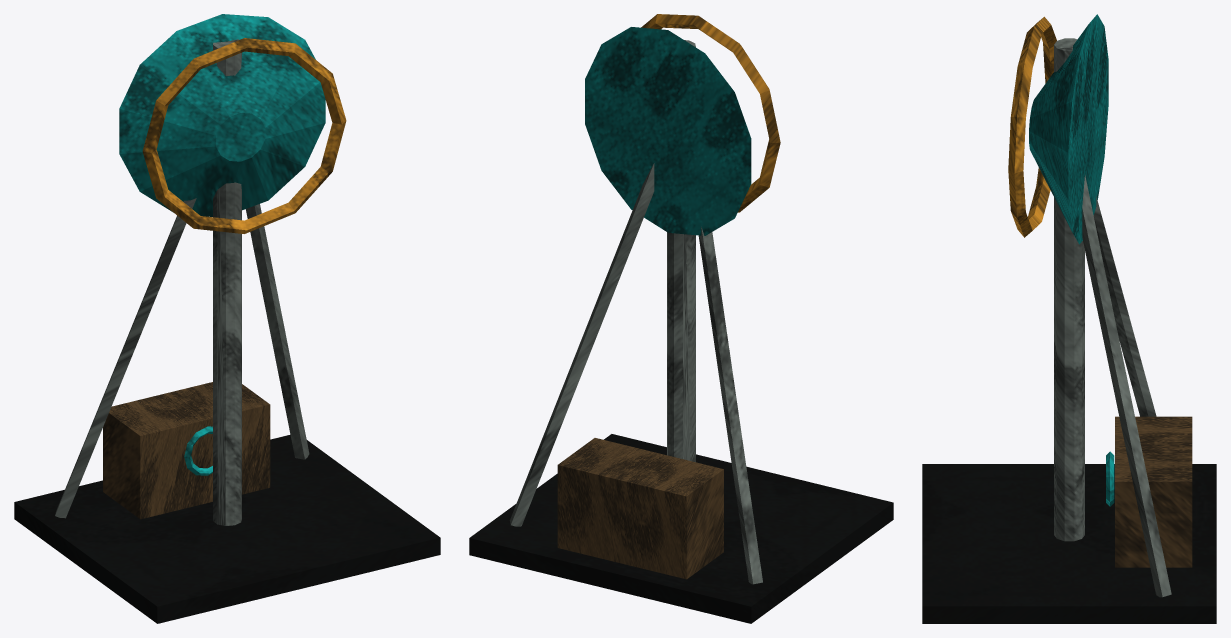
Rendered from far-horizon-listening-post.glb.
The picture shows the model from 3 angles, left to right: view 1: azimuth 30°, elevation 25°; view 2: azimuth 150°, elevation 25°; view 3: azimuth 270°, elevation 25°; orthographic projection. The views are drawn at different scales.
Visible parts, largest first — view 1: far-horizon-listening-post; view 2: far-horizon-listening-post; view 3: far-horizon-listening-post.
Part boxes in pixels (bbox=[...]): far-horizon-listening-post: bbox=[14, 14, 440, 623]; far-horizon-listening-post: bbox=[469, 14, 893, 623]; far-horizon-listening-post: bbox=[922, 14, 1216, 623].
Size of the model in its own units: 4.8 by 8.35 by 4.2.
Materials: 1 (1 with a texture image).
